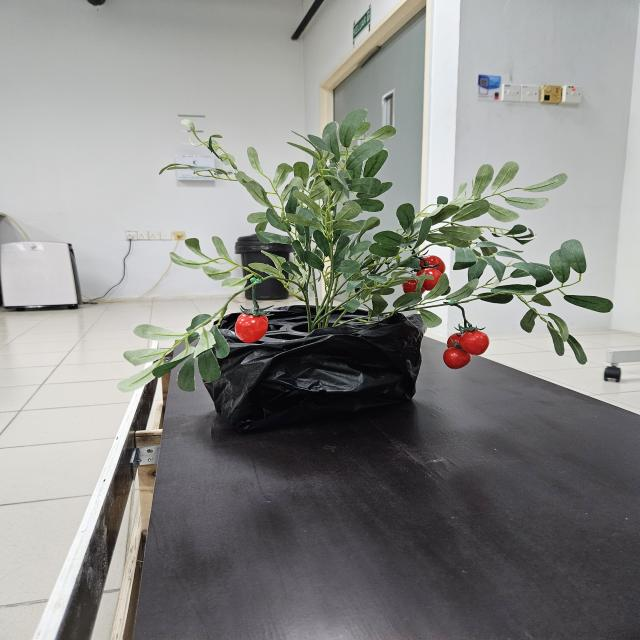Tomato: (441, 325, 490, 370), (400, 255, 449, 295), (233, 306, 270, 343)
plant: (115, 109, 618, 397)
